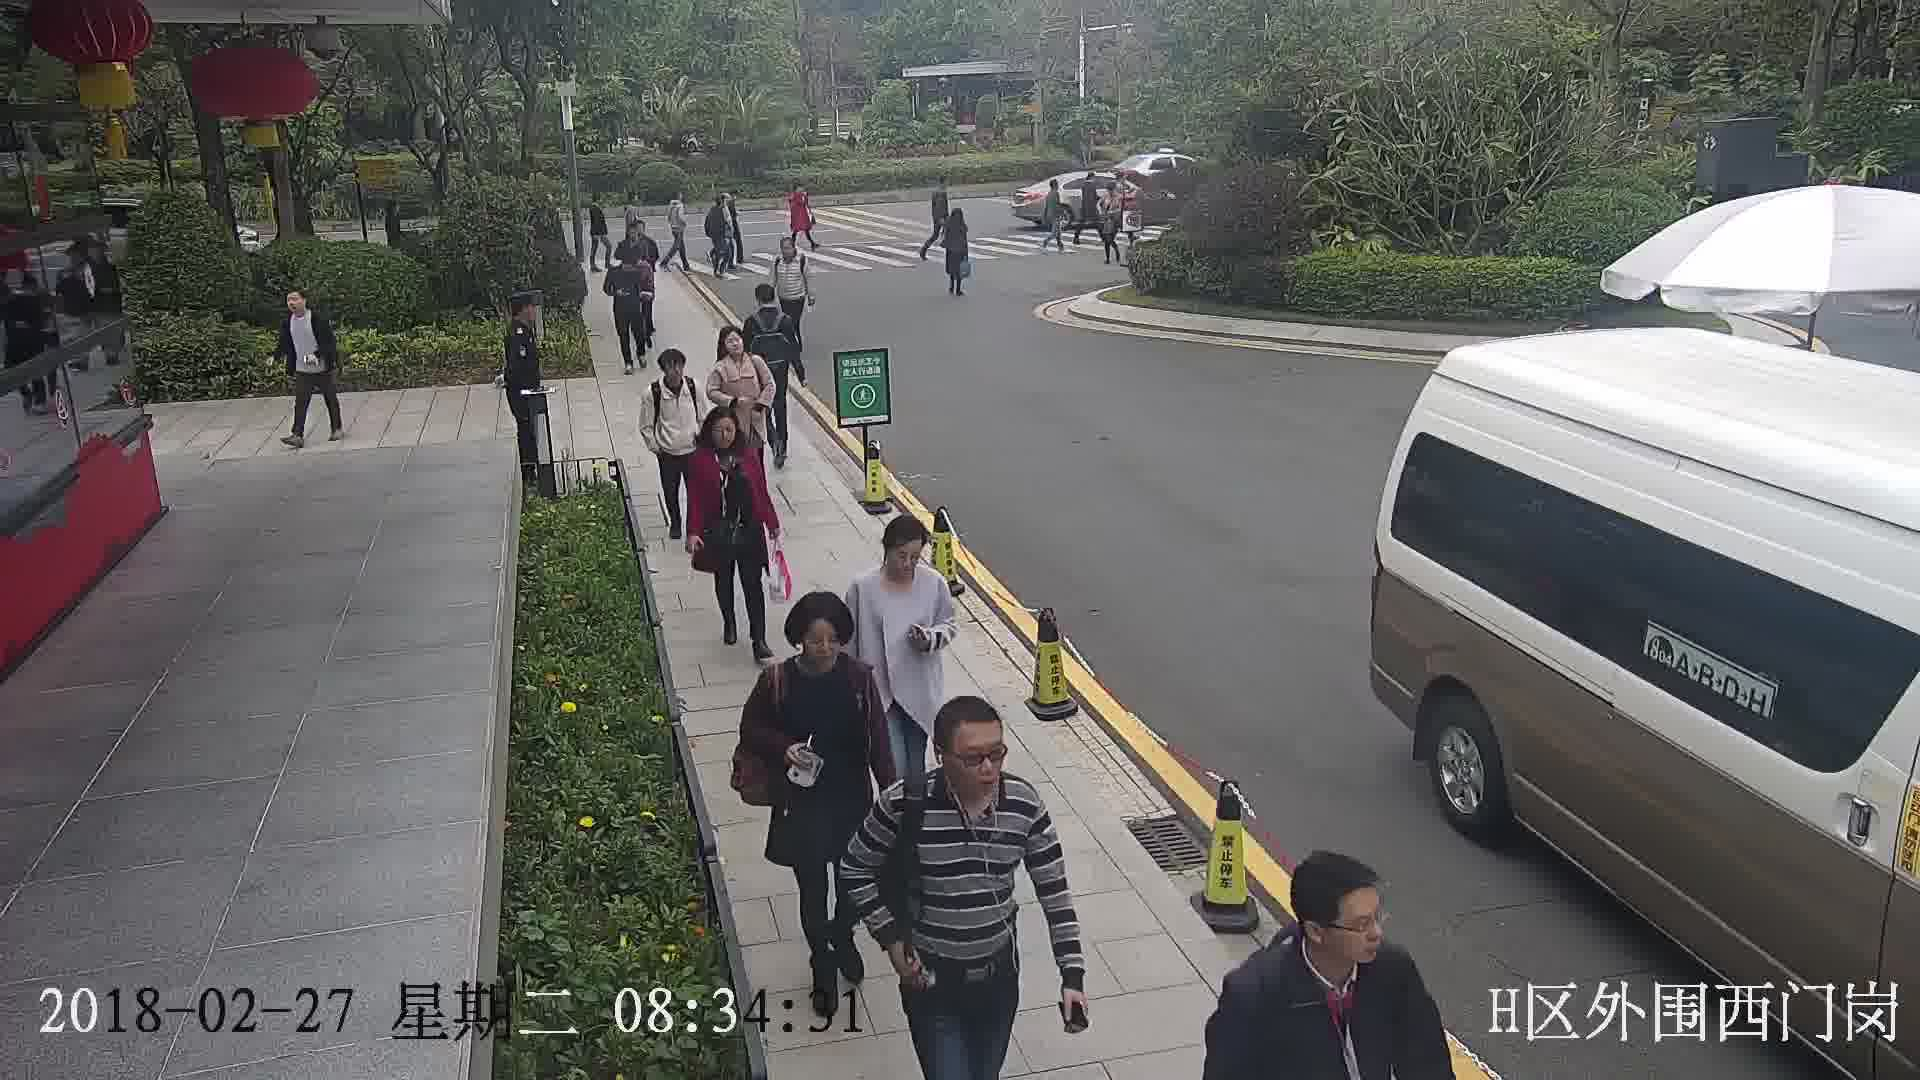face: (1309, 885, 1391, 967), (937, 723, 1011, 797), (884, 528, 928, 580), (796, 619, 842, 669)
person: (1217, 851, 1429, 1030), (880, 695, 1051, 840), (753, 587, 883, 707), (852, 513, 952, 614), (692, 407, 754, 472), (710, 323, 765, 375), (647, 345, 701, 397), (504, 291, 544, 347), (281, 283, 327, 331), (743, 282, 791, 326), (772, 234, 806, 267), (610, 249, 649, 278), (622, 221, 658, 249), (940, 205, 969, 229), (382, 196, 406, 224), (789, 182, 811, 204), (1101, 180, 1120, 206), (709, 191, 730, 214), (1045, 174, 1061, 199), (934, 173, 949, 199), (669, 191, 688, 211), (587, 192, 607, 212), (1084, 168, 1098, 192)
